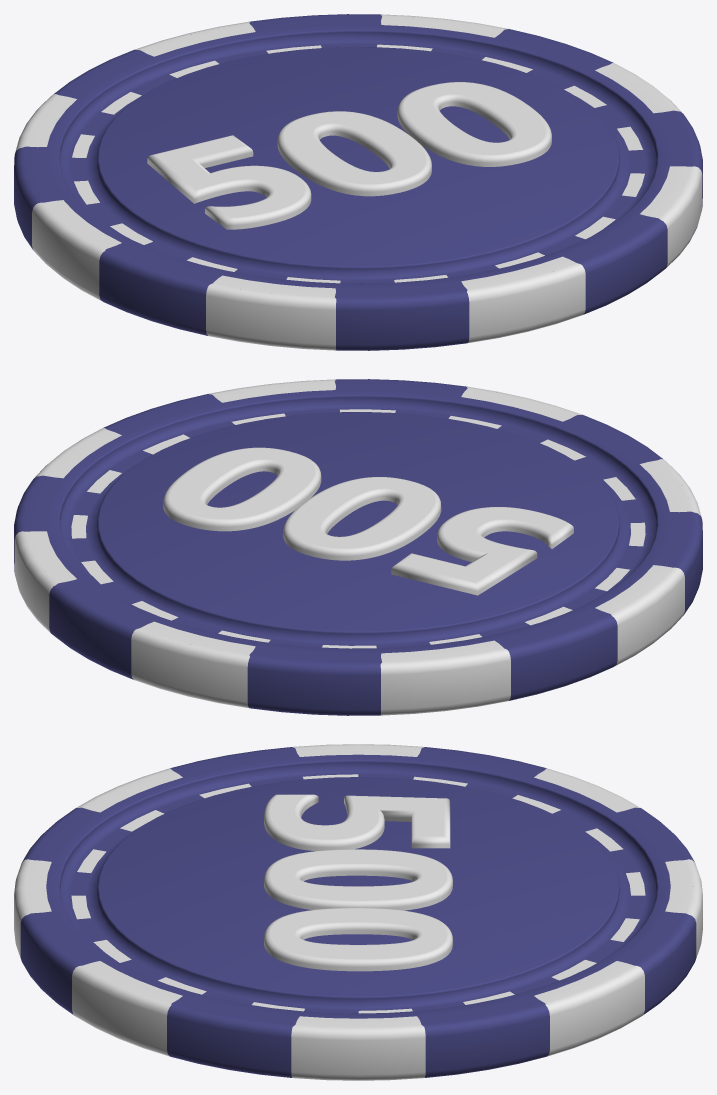
3 renders of one model, top to bottom at view 1: azimuth 30°, elevation 25°; view 2: azimuth 150°, elevation 25°; view 3: azimuth 270°, elevation 25°, orthographic.
Visible parts, largest first — view 1: Text.002; view 2: Text.002; view 3: Text.002.
Boxes of the visible parts, x1,y1,x2,y2 form: Text.002: [14, 14, 702, 350]; Text.002: [14, 379, 702, 715]; Text.002: [14, 744, 702, 1080].
Size of the model in its own units: 8.02 by 0.9115 by 8.02.
